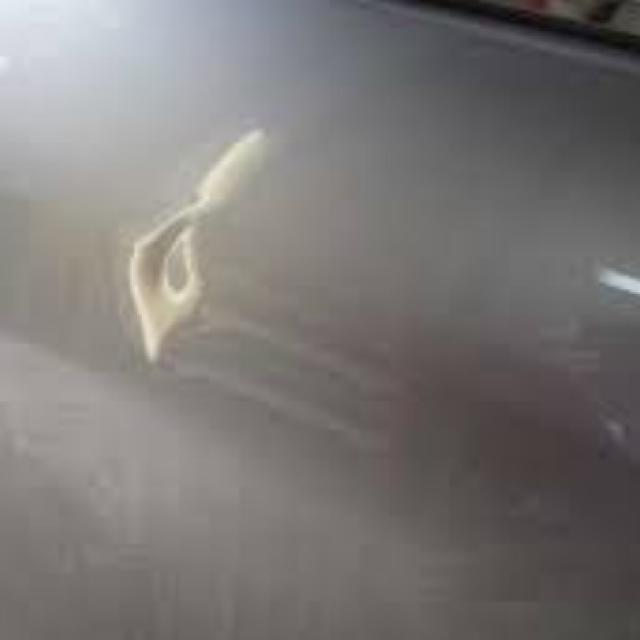dents: (116, 121, 258, 390)
